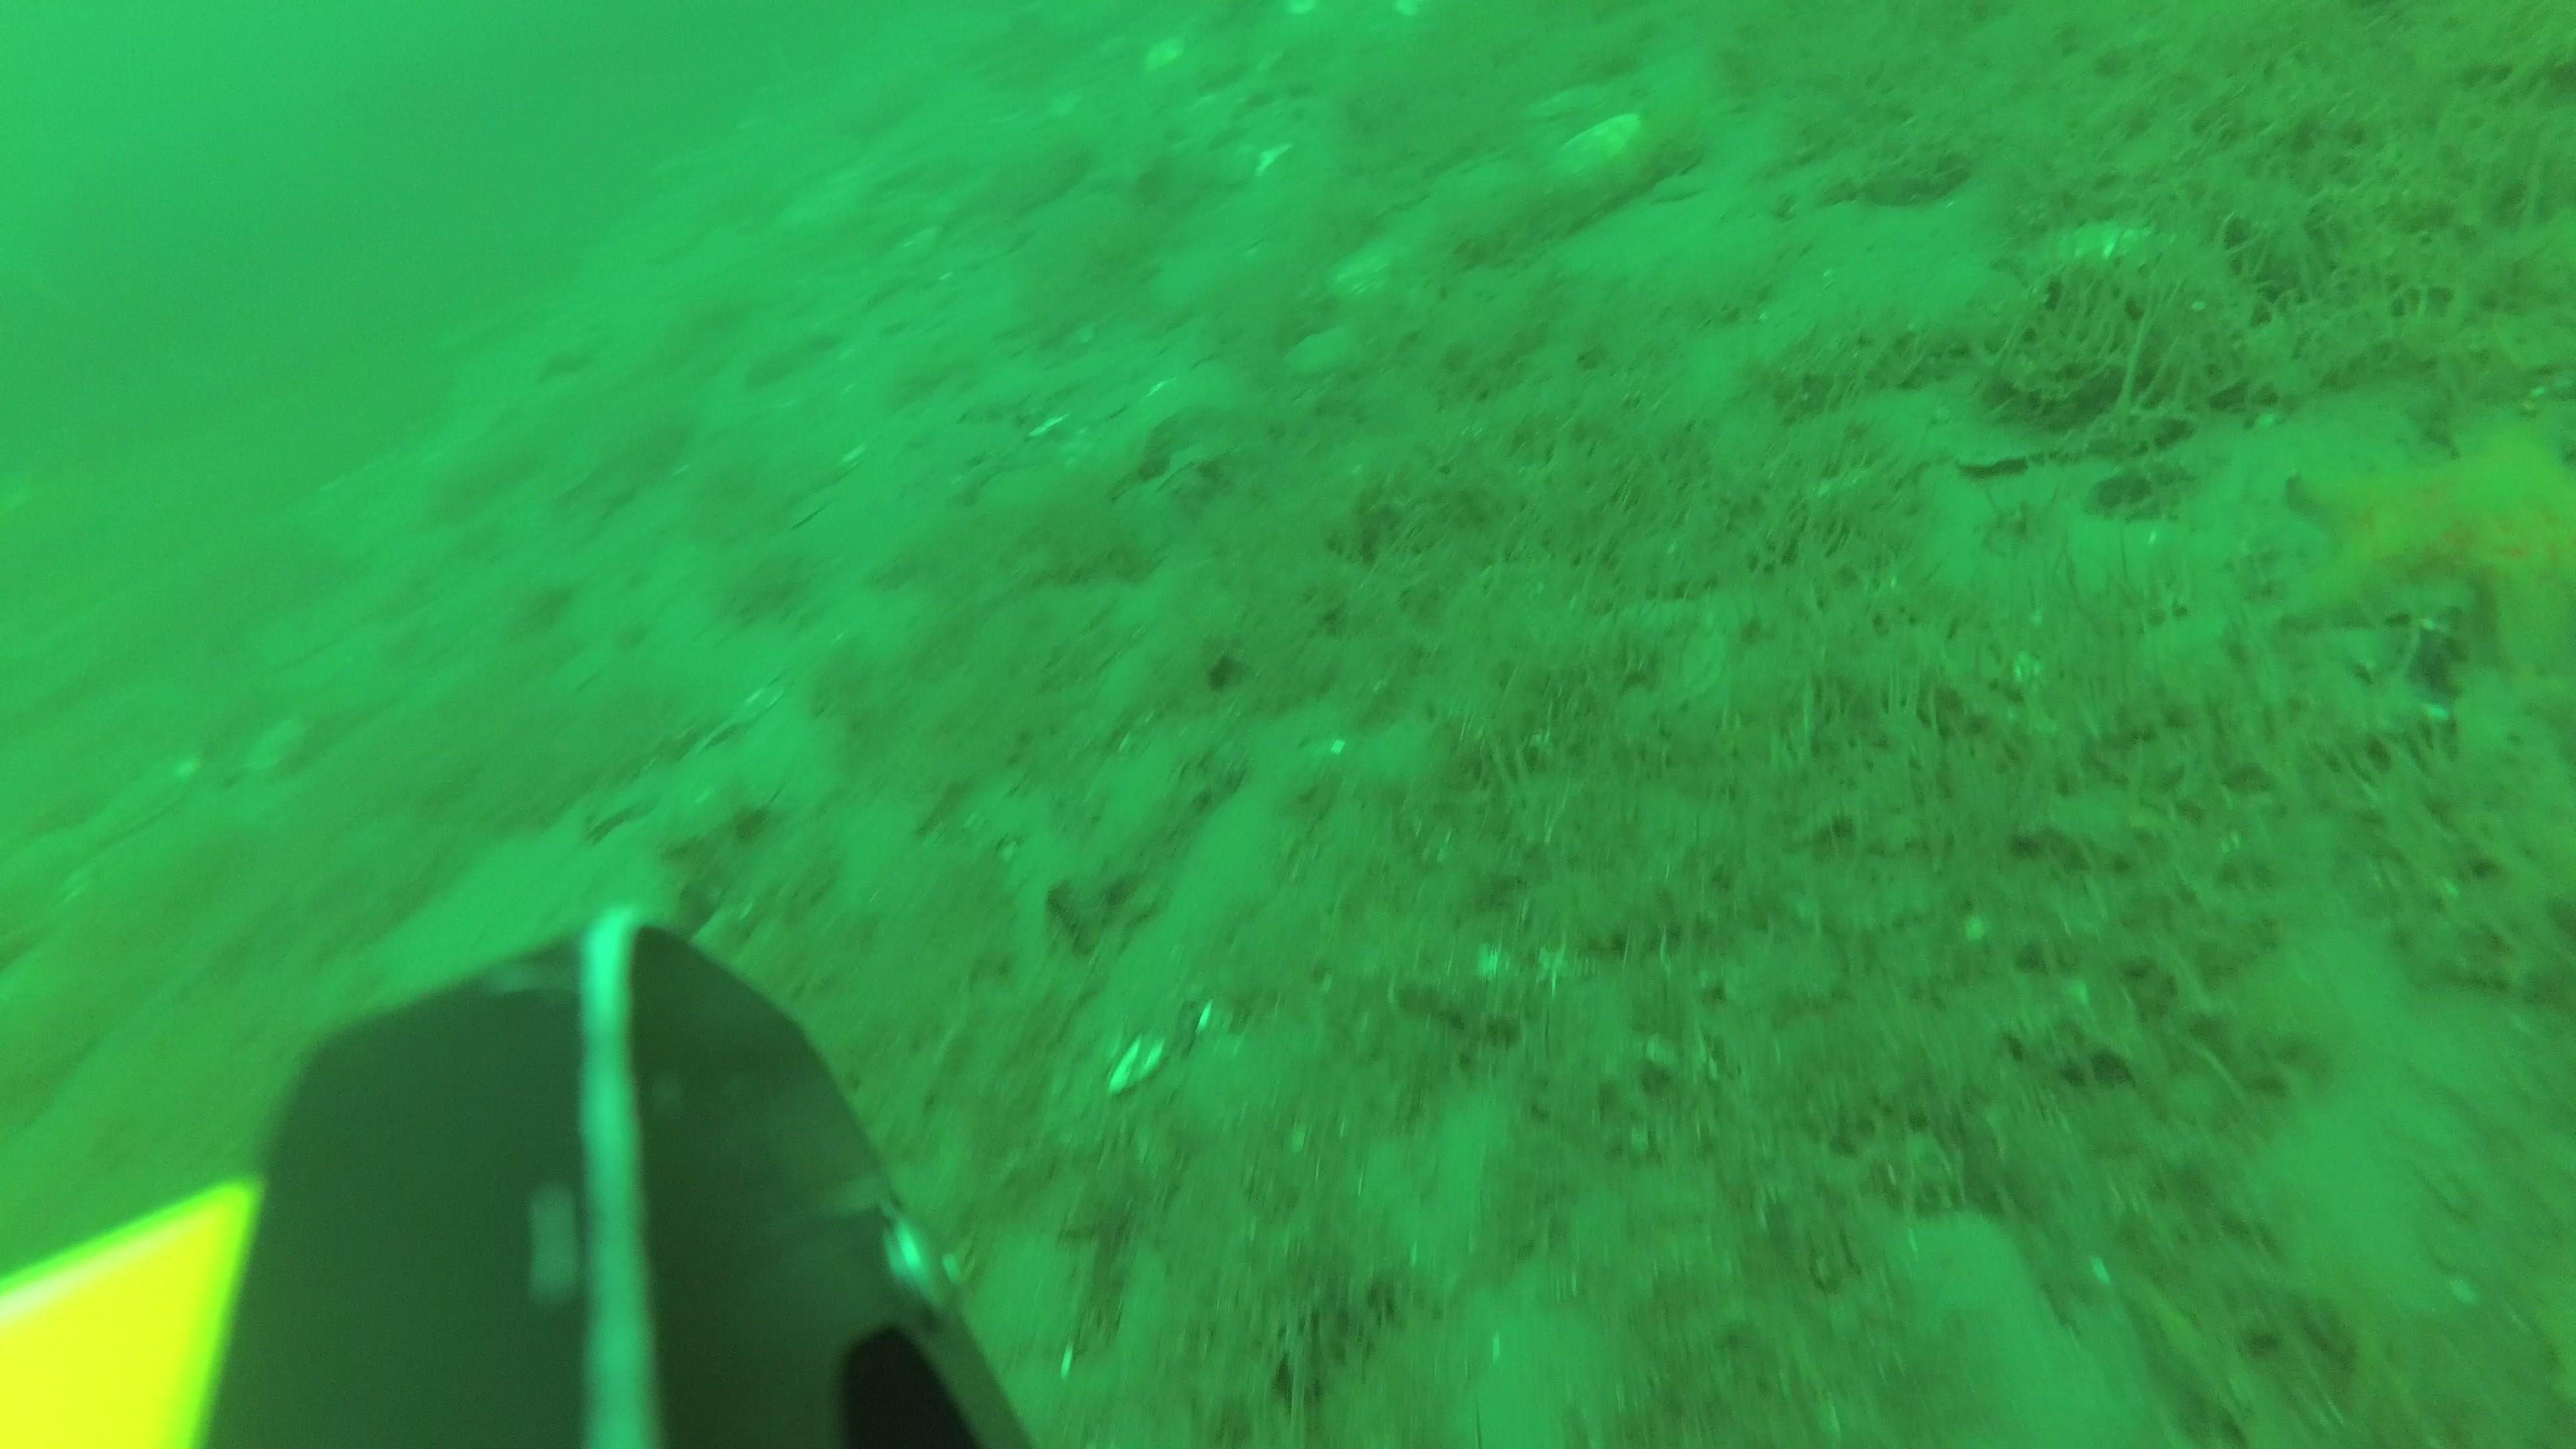scallop: (1888, 1201, 2146, 1449), (88, 747, 202, 844), (1552, 113, 1645, 180), (1318, 246, 1401, 310), (1283, 322, 1364, 373)
starfish: (2284, 435, 2576, 642)
